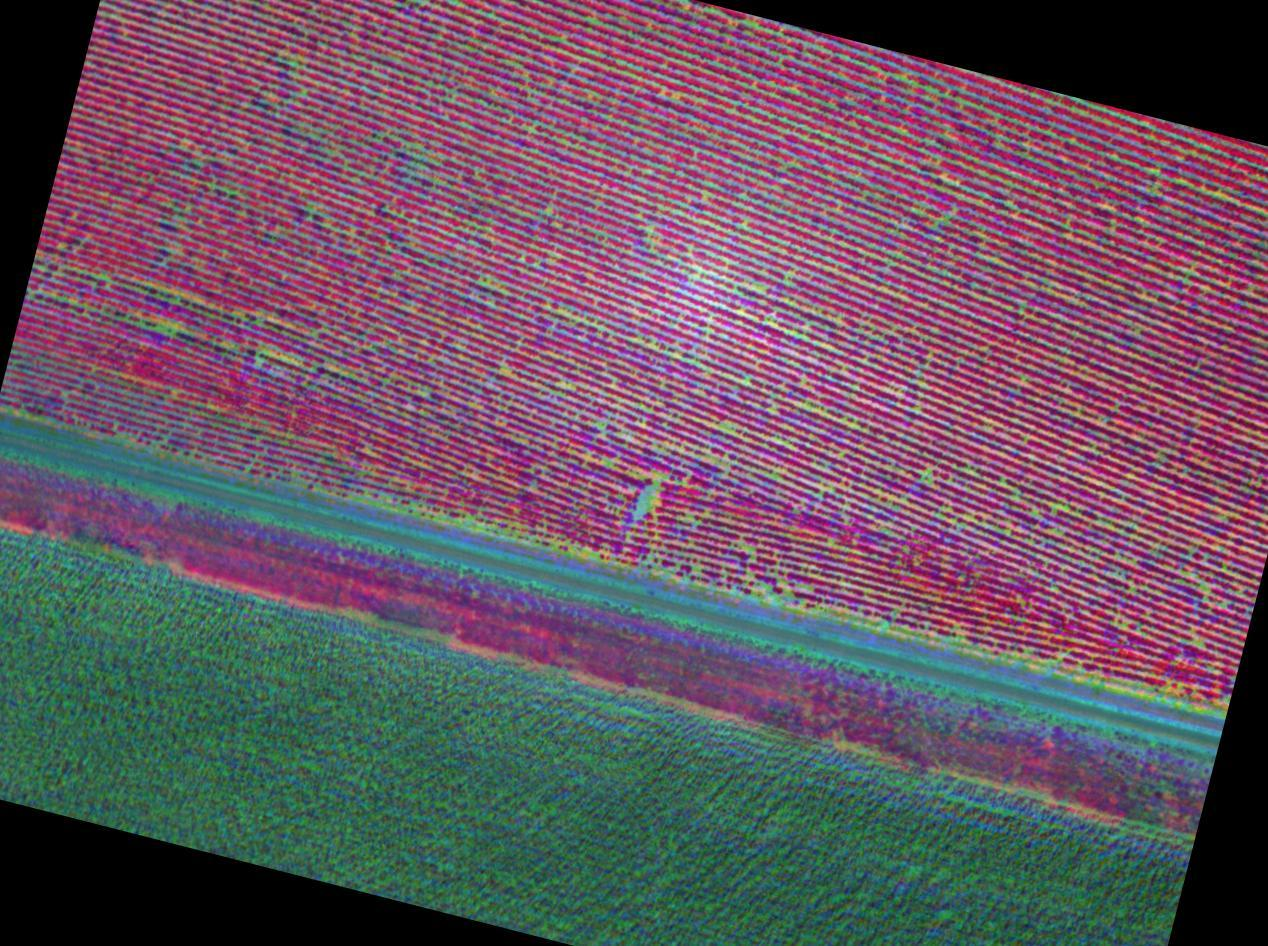dc: (754, 282, 764, 291), (722, 423, 730, 430), (645, 494, 653, 501), (745, 376, 749, 381), (483, 274, 487, 277)
